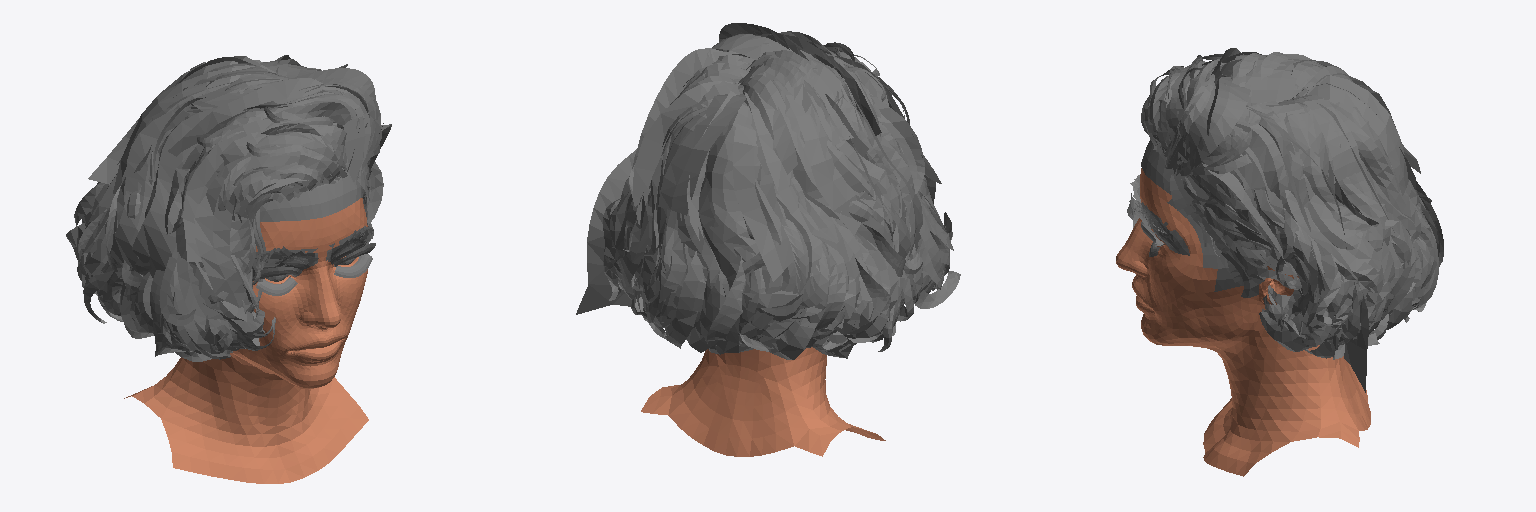
Rendered from Anna2.obj.
3 renders of one model, left to right at view 1: azimuth 30°, elevation 25°; view 2: azimuth 150°, elevation 25°; view 3: azimuth 270°, elevation 25°, orthographic.
Visible parts, largest first — view 1: Anna_Hair_Mesh.005, Anna_Head_Mesh.001, Anna_Eyebrows_Mesh.003; view 2: Anna_Hair_Mesh.005, Anna_Head_Mesh.001; view 3: Anna_Hair_Mesh.005, Anna_Head_Mesh.001, Anna_Eyebrows_Mesh.003.
Part boxes in pixels (x1,y1,x2,y2): Anna_Hair_Mesh.005: (66, 55, 391, 361); Anna_Head_Mesh.001: (124, 198, 375, 483); Anna_Eyebrows_Mesh.003: (252, 226, 373, 276); Anna_Hair_Mesh.005: (576, 23, 960, 359); Anna_Head_Mesh.001: (641, 347, 885, 456); Anna_Hair_Mesh.005: (1127, 48, 1443, 392); Anna_Head_Mesh.001: (1116, 168, 1370, 476); Anna_Eyebrows_Mesh.003: (1130, 175, 1189, 255).
Bounding box in the file's own units: 0.2753 × 0.3493 × 0.2619.